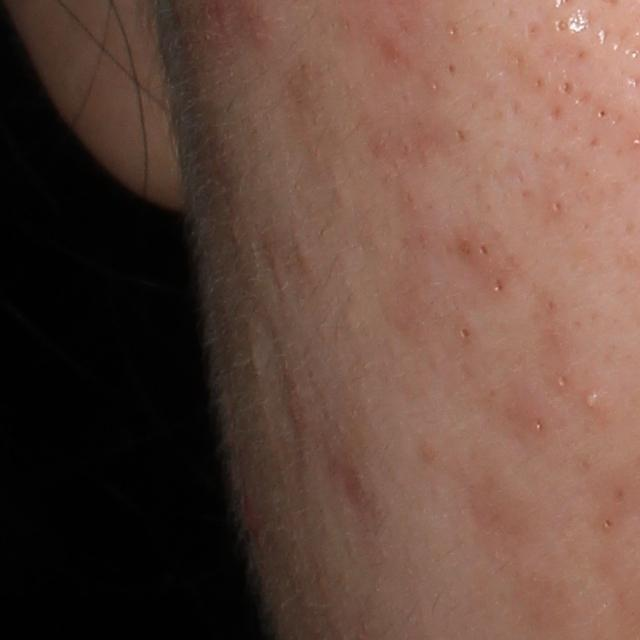comedo: (593, 101, 612, 122), (551, 196, 568, 217), (557, 77, 574, 97), (554, 374, 569, 390), (457, 325, 471, 342), (493, 279, 506, 297), (478, 240, 490, 257)
pustule: (581, 388, 602, 413)
